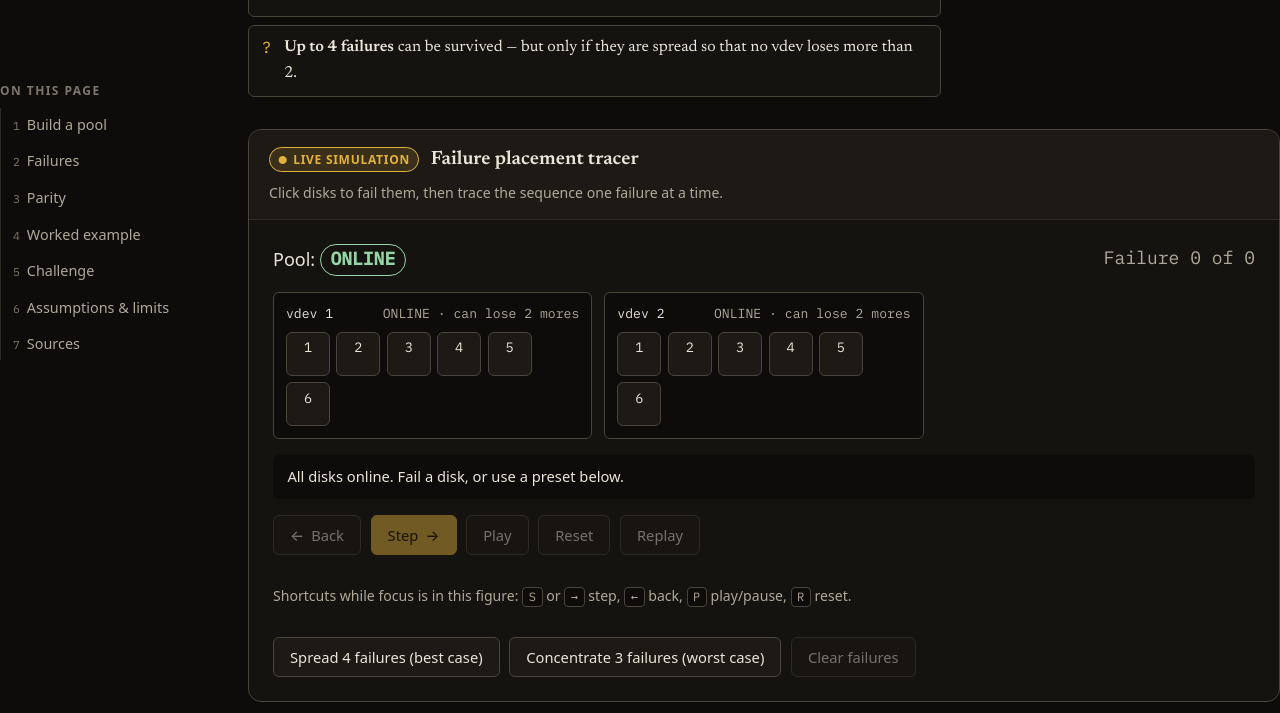
Scenario: ZFS topology explorer › shows that which disks fail decides survival
The width and height of the screenshot is (1280, 713).
(page scrolled)
expect the text with test id "pool-state" reads "ONLINE": met, box [330,248,395,270]
Click the 1st button "1": (308, 354) [286,332,330,376]
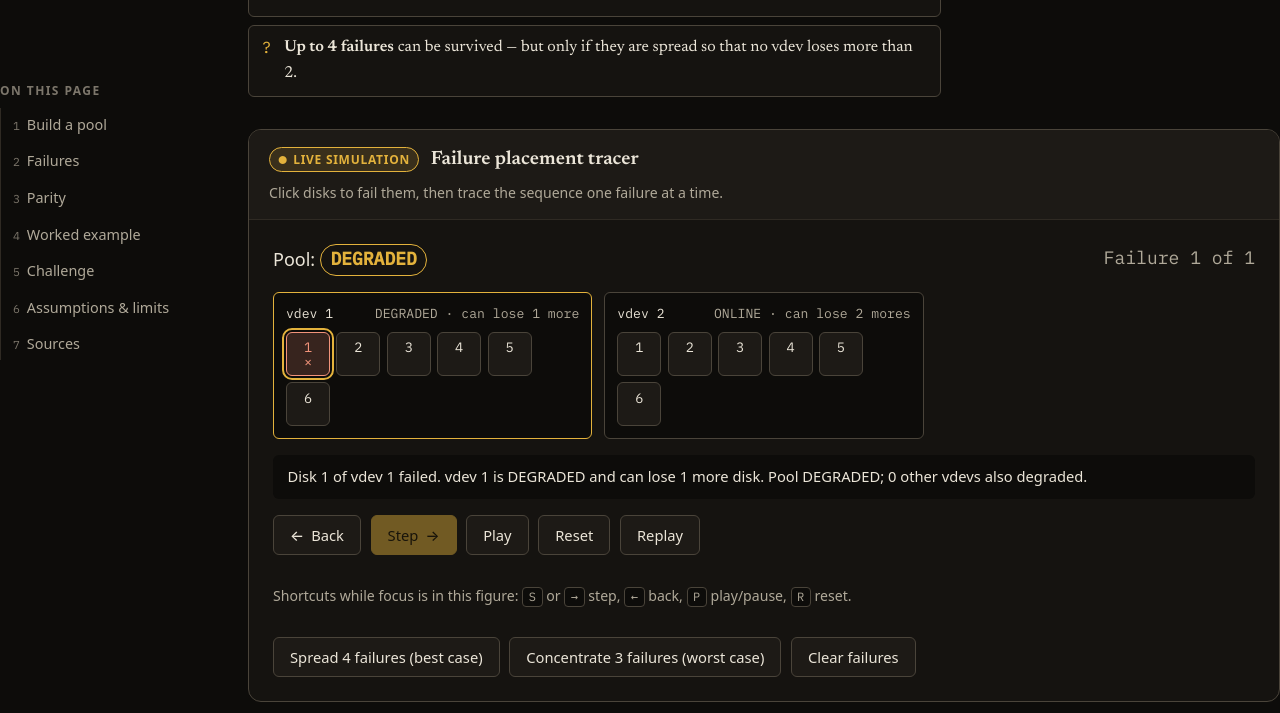
Click the button "2" below "DEGRADED · can lose 1 more": (358, 354) [336,332,380,376]
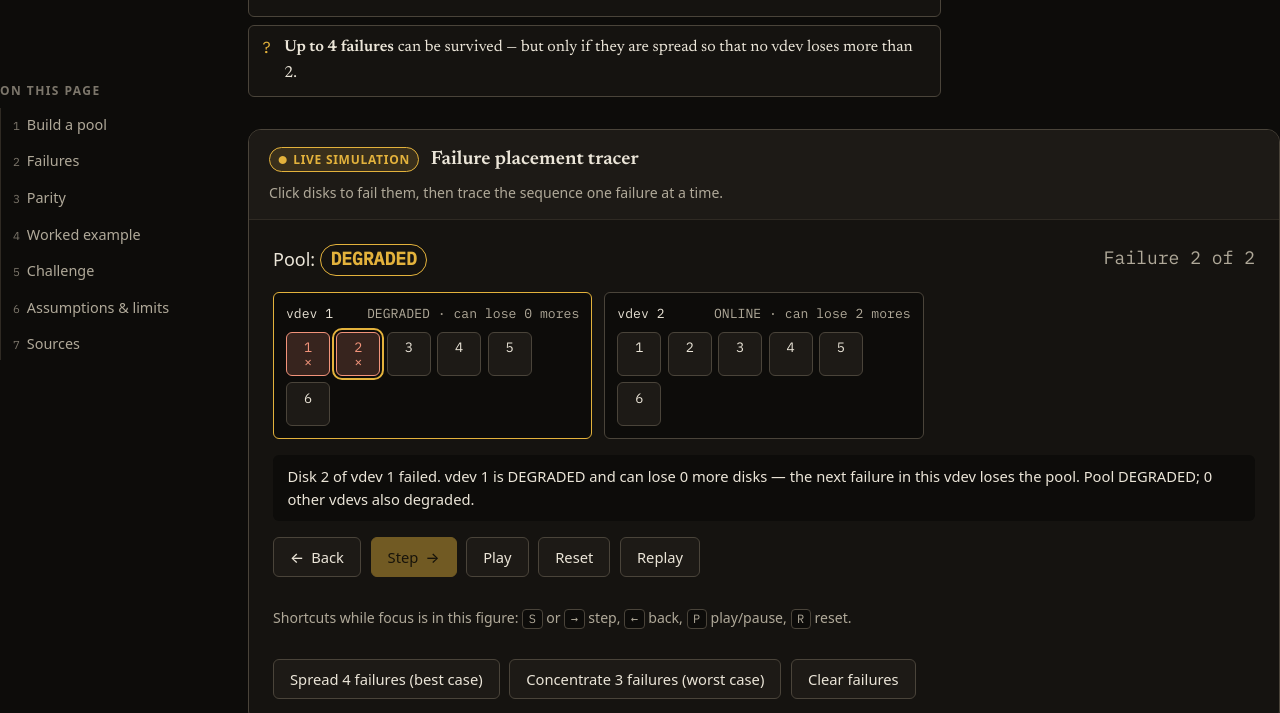
Click the button "1": (639, 354) [617,332,661,376]
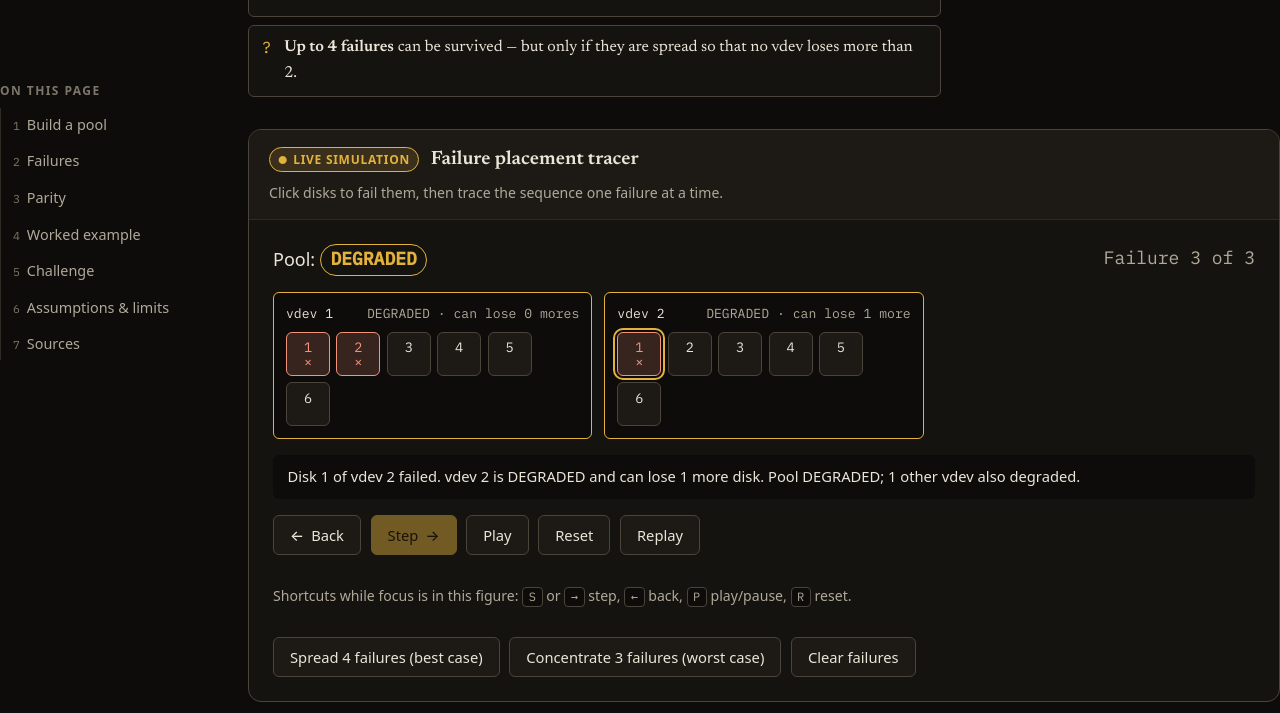
expect the text with test id "pool-state" reads "DEGRADED": met, box [330,248,417,270]
Click the button "1 ✕" below "DEGRADED · can lose 1 more": (639, 354) [617,332,661,376]
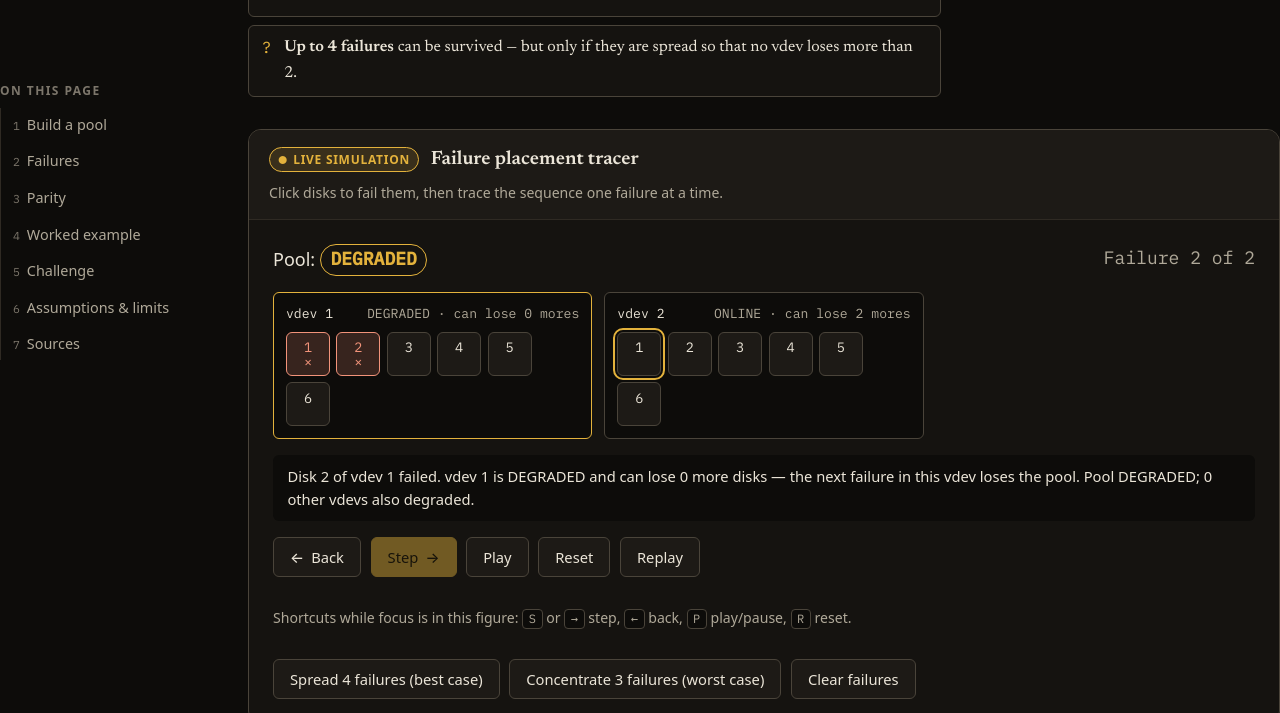
Click the 1st button "3": (409, 354) [387,332,431,376]
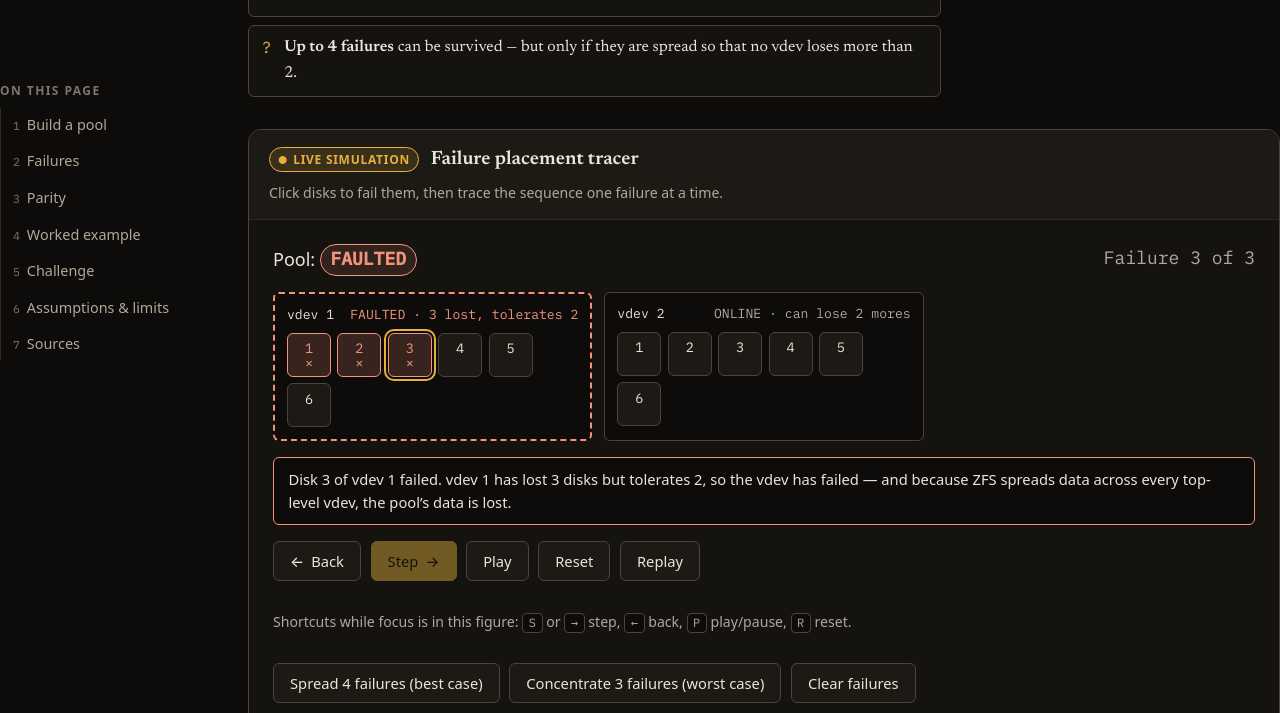
expect the message shows "vdev 1": met, box [288,469,1211,512]
expect the text with test id "pool-state" reads "FAULTED": met, box [330,248,406,270]
